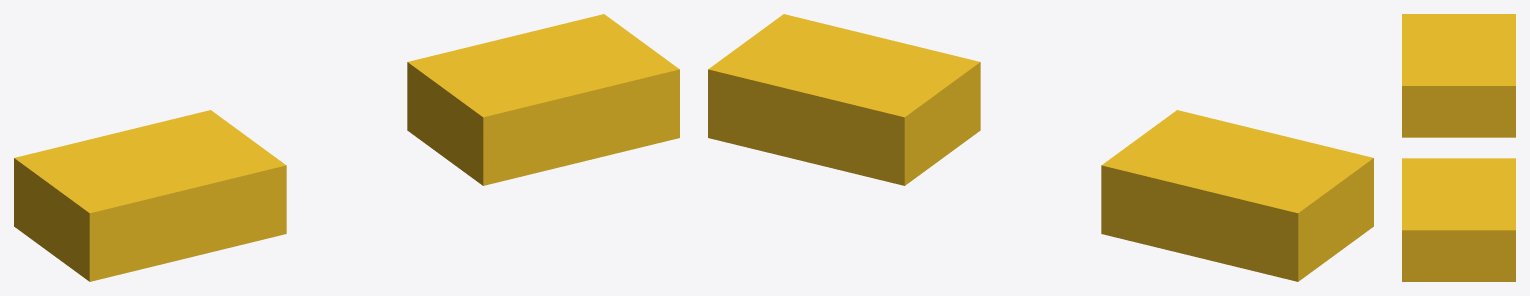
Rendered from pen-2.obj.
3 views of the same model, side by side, from view 1: azimuth 30°, elevation 25°; view 2: azimuth 150°, elevation 25°; view 3: azimuth 270°, elevation 25° (orthographic). The views are drawn at different scales.
Bounding box in the file's own units: 0.9 × 0.1 × 0.2.
Materials: 1 (1 with a texture image).
